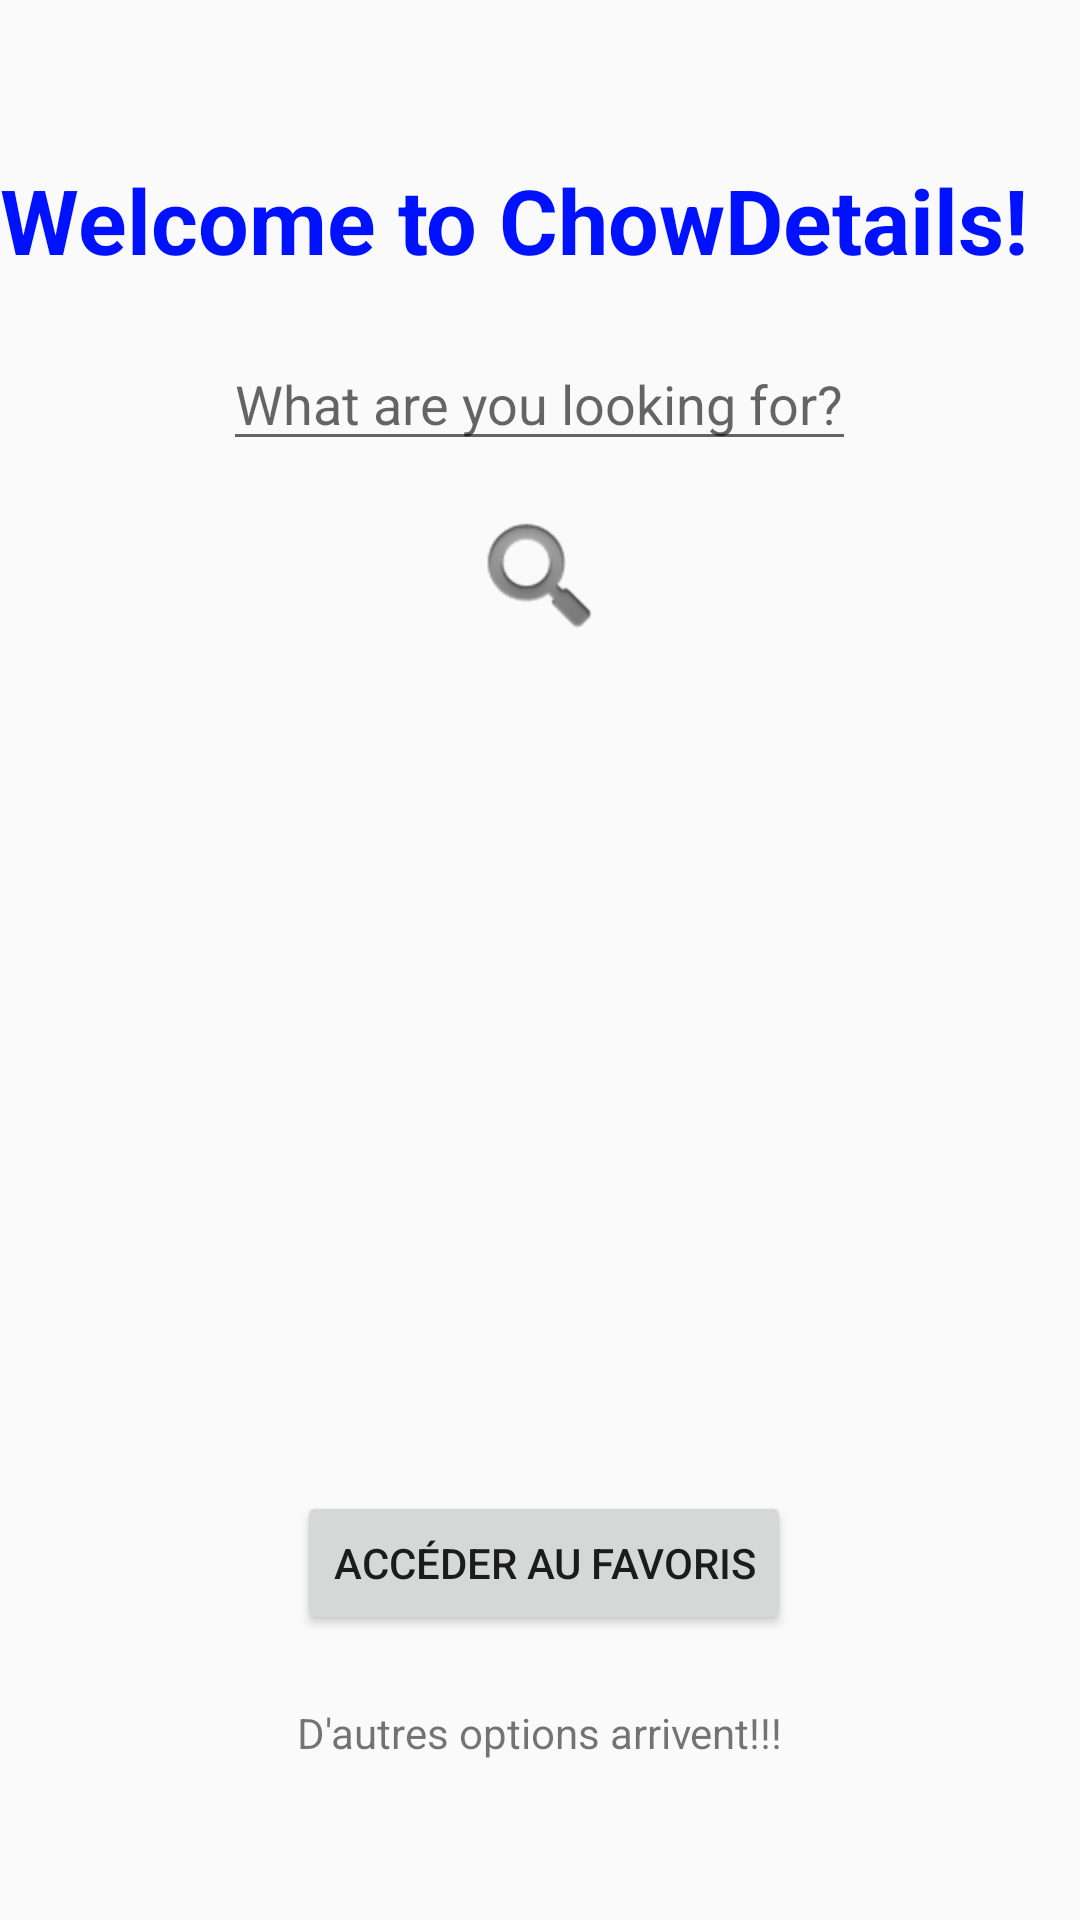

Icon click points for this 1080px×1920px phone screenshot, format (x=x, y=y):
search category: (x=539, y=575)
